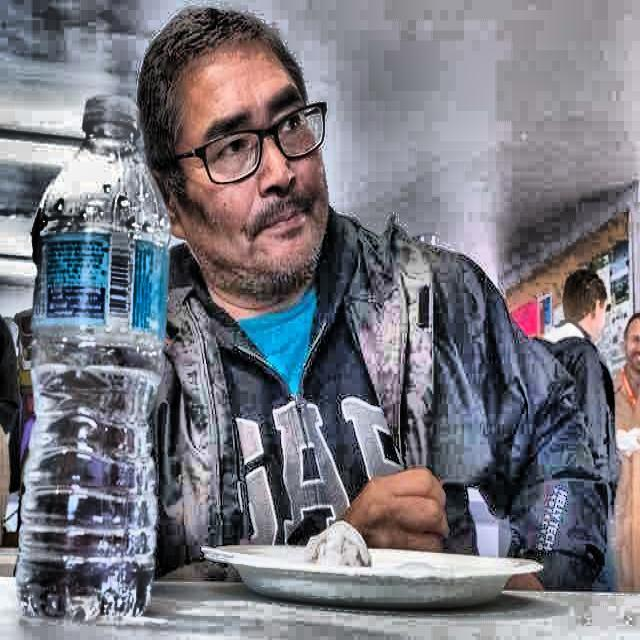Bottles: (10, 91, 171, 616)
